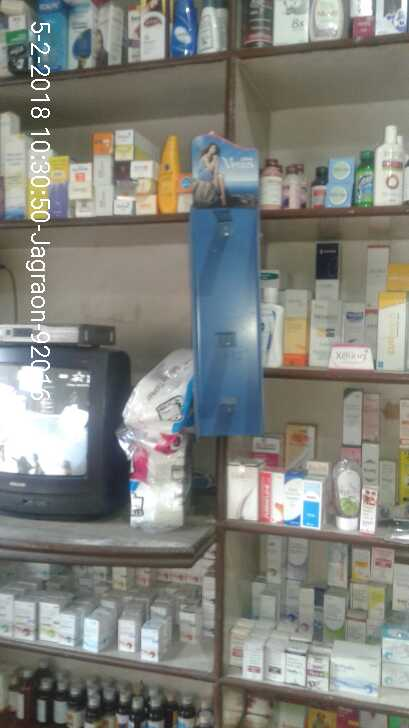reject: (231, 419, 285, 470)
